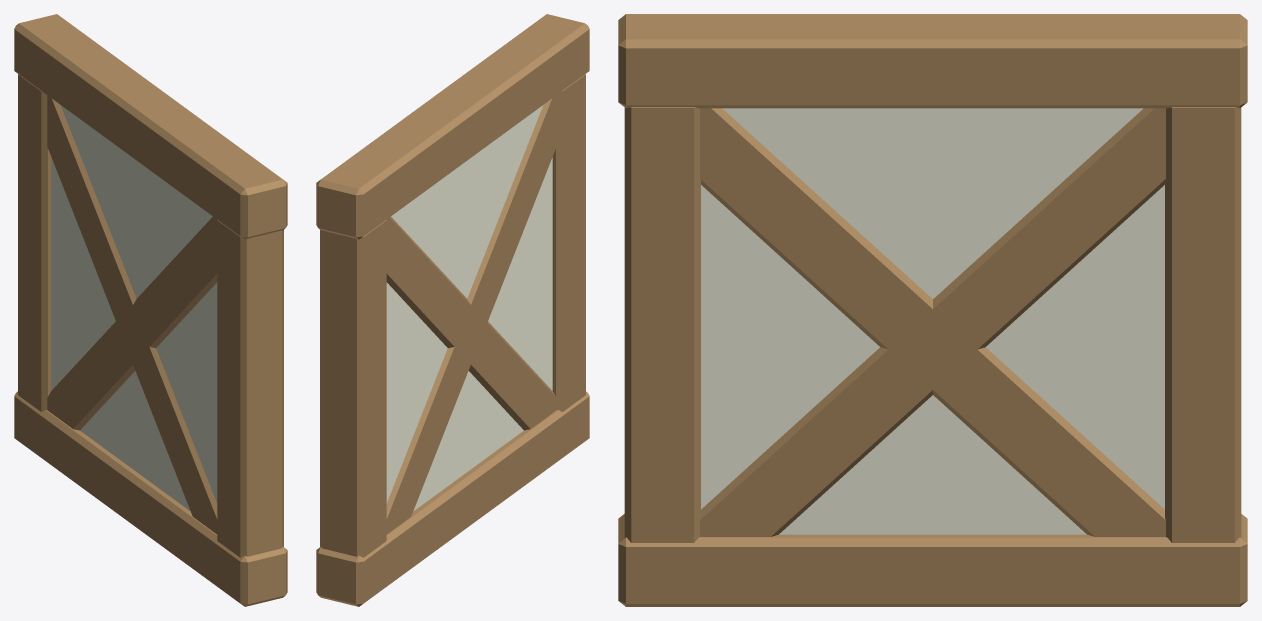
Rendered from BaseWall_5.fbx.
The picture shows the model from 3 angles, left to right: view 1: azimuth 30°, elevation 25°; view 2: azimuth 150°, elevation 25°; view 3: azimuth 270°, elevation 25°; orthographic projection. The views are drawn at different scales.
Parts seen in each view (by area): view 1: BaseWall.008; view 2: BaseWall.008; view 3: BaseWall.008.
Boxes of the visible parts, left/top/right/bottom form: BaseWall.008: left=14, top=14, right=287, bottom=606; BaseWall.008: left=316, top=14, right=589, bottom=606; BaseWall.008: left=618, top=14, right=1247, bottom=606.
Bounding box in the file's own units: 0.2753 × 2.32 × 2.33.
